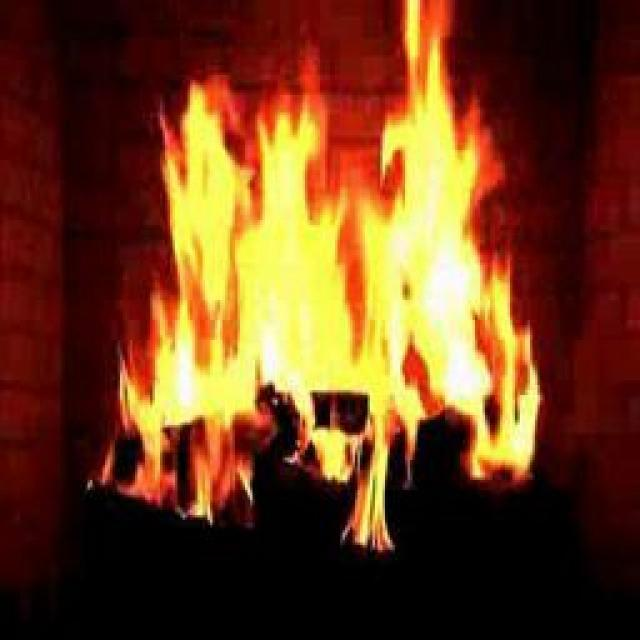Fire: (181, 109, 520, 493)
